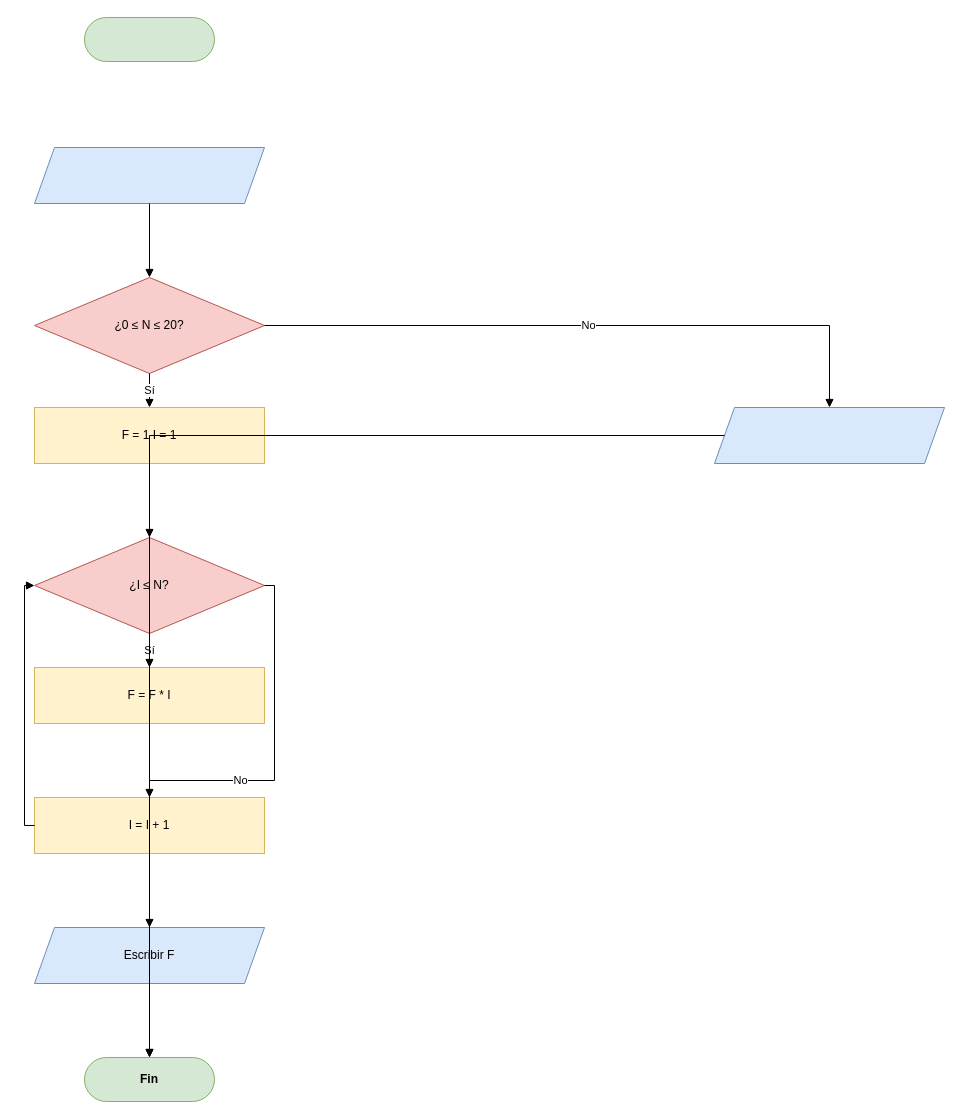
Image size: 962x1119. Some labels were removed from this diagram. The shapes that lost their labels are listed below. From the top down, each one's centre as x and y in pixels, then its label:
pixel 149 39: Inicio
pixel 149 175: Leer N
pixel 829 435: Escribir: N fuera de rango
